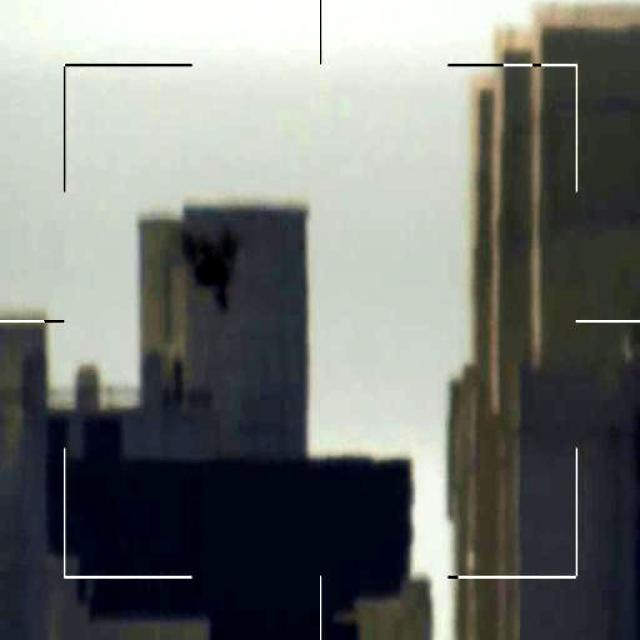bird: (180, 221, 248, 316)
